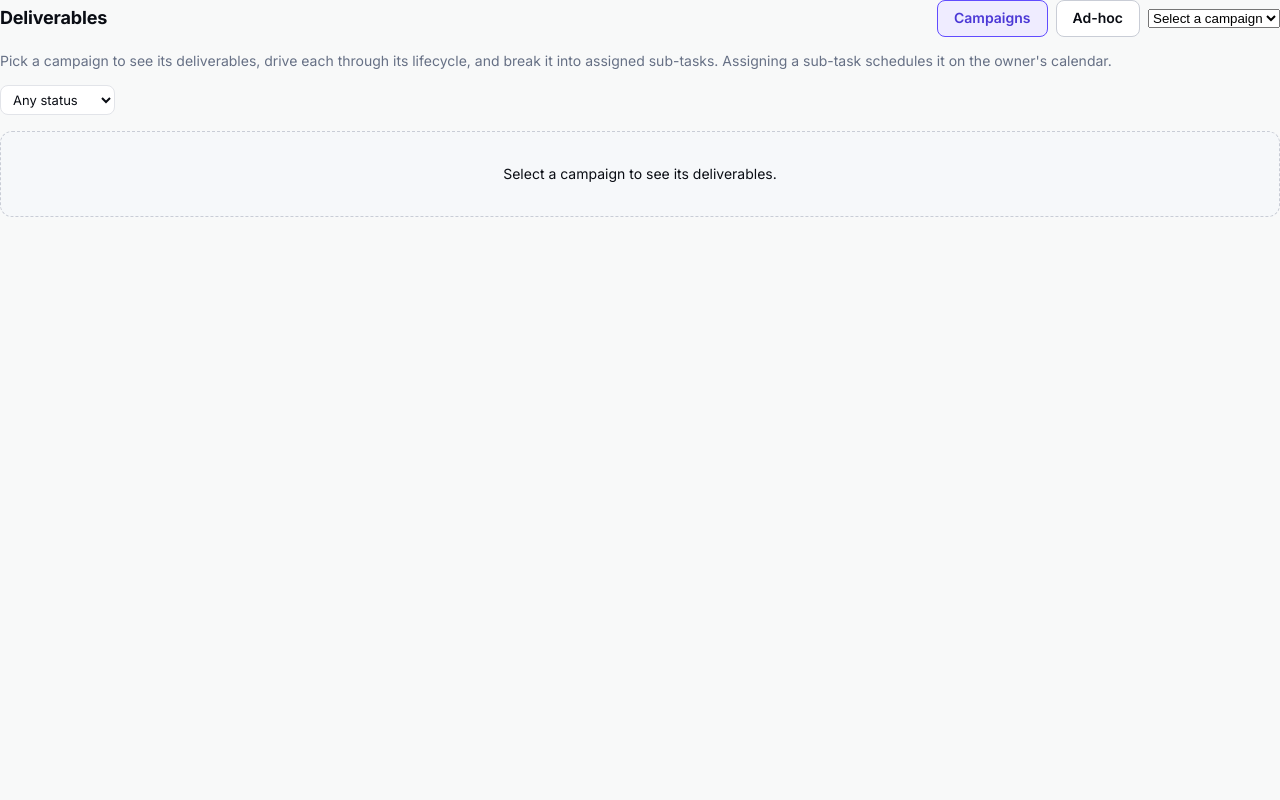
DeliverablesPage (ADR-0024, I2 breakdown surface) › non-managers get a read-only breakdown — no add form, no cancel
Select "Spring Launch" in the dropdown with test id "deliverables-campaign": (1214, 18) x1=1148 y1=9 x2=1279 y2=28
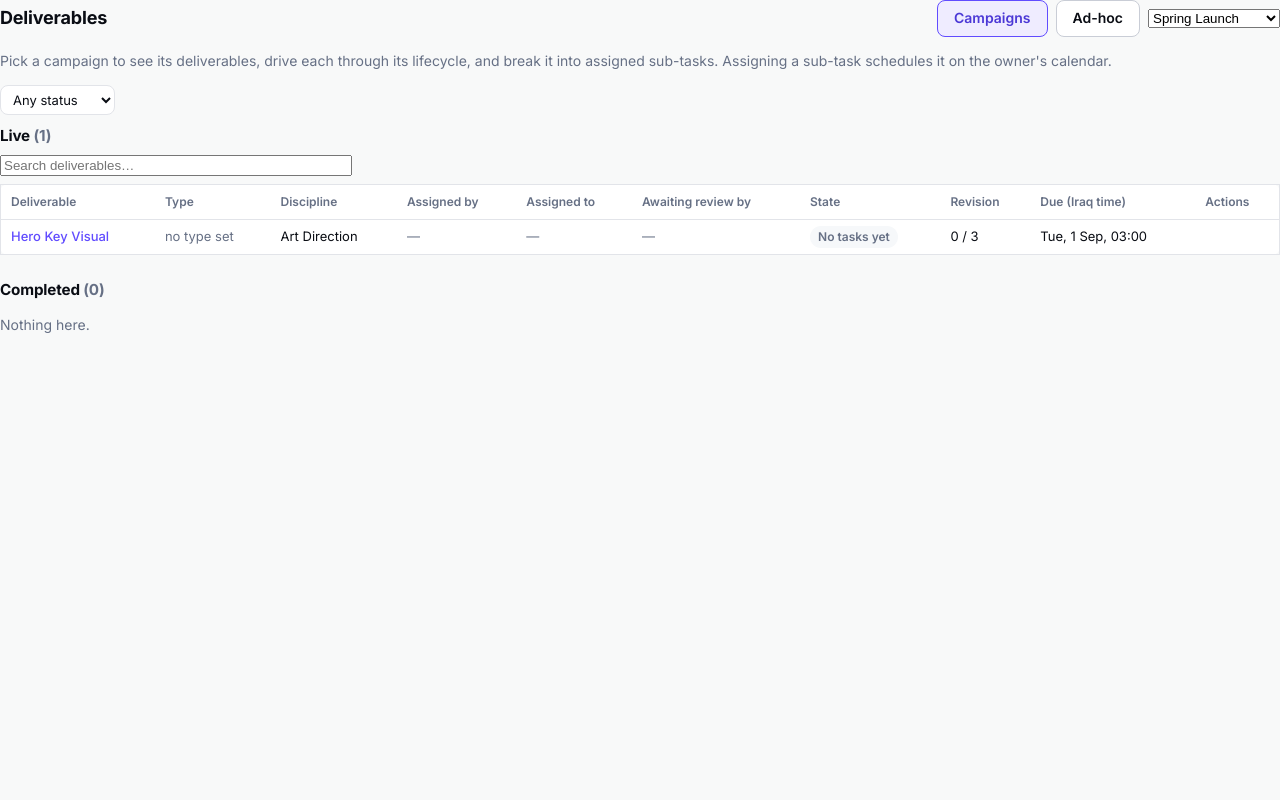
Click the button with test id "deliverable-open-d1": (60, 237) x1=11 y1=229 x2=109 y2=245
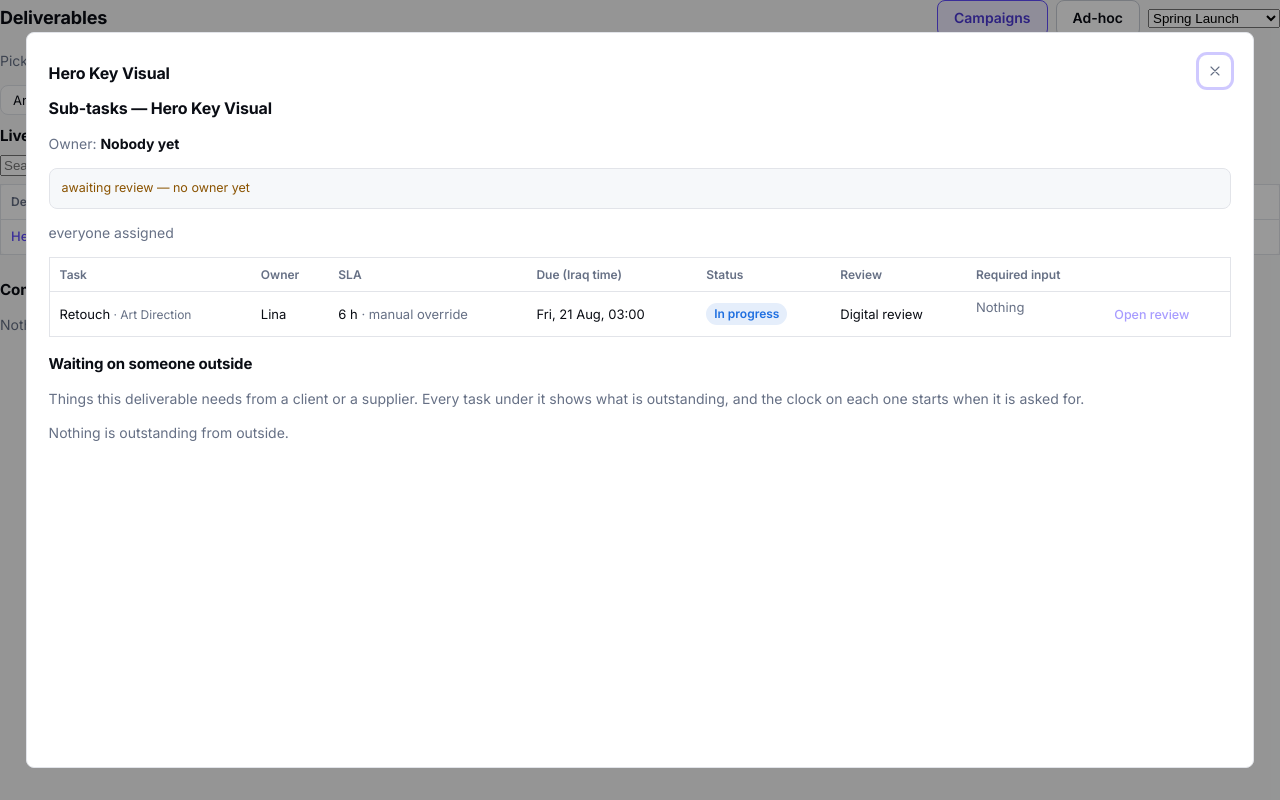
Now the row with test id "subtask-row-st1" is shown, box x1=49 y1=292 x2=1231 y2=337
